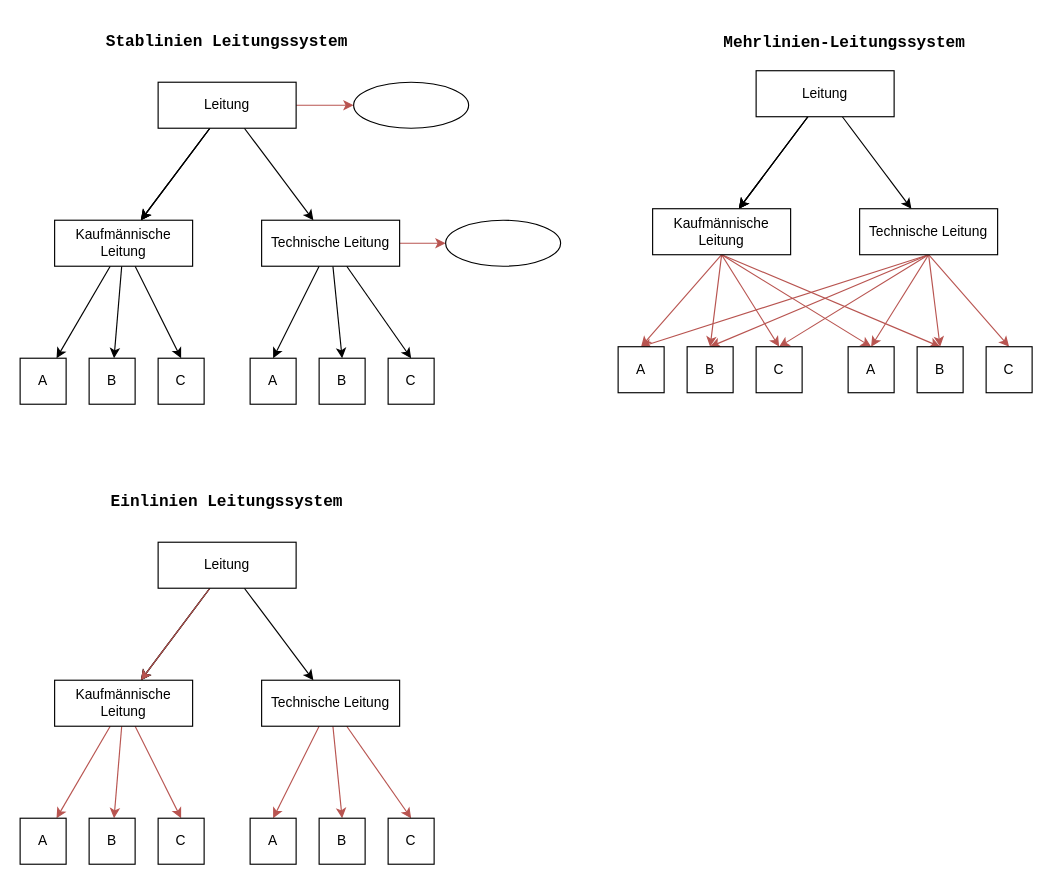
This 1052x884 diagram has some shape labels left out. Each missing label, with the centre of its shape:
"Berater" goes at pixel 502 242.
"Rechtsanwalt" goes at pixel 410 104.
